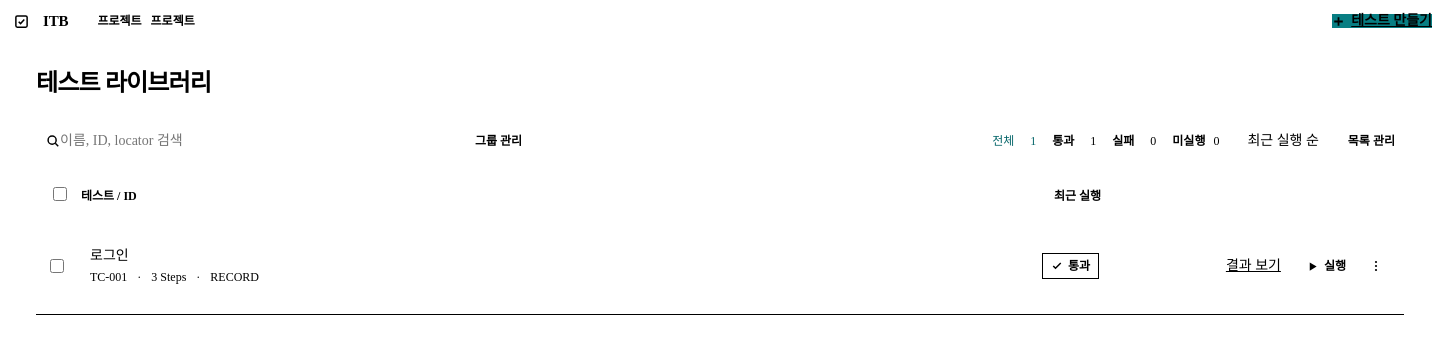
Test: TestList — 이름 변경·삭제 (FR-007) › 삭제는 확인을 거친다. 확인 전에는 요청하지 않는다
Check: the text "로그인" is shown, box [90,248,129,263]
Click the button named "로그인 추가 동작" at (1376, 266), box [1362,252,1390,280]
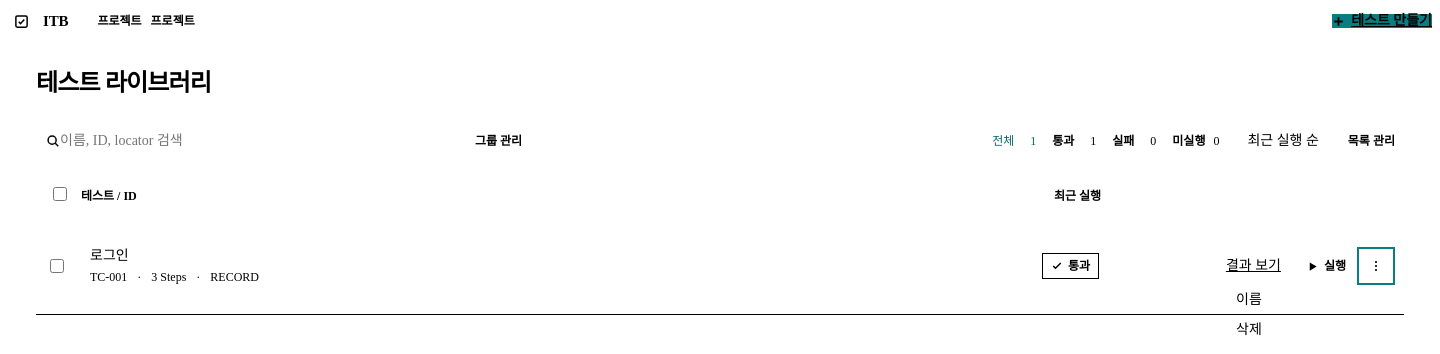
Check: the menu is shown, box [1236,292,1262,337]
Click the menu item "삭제" at (1249, 330), box [1236,322,1262,337]
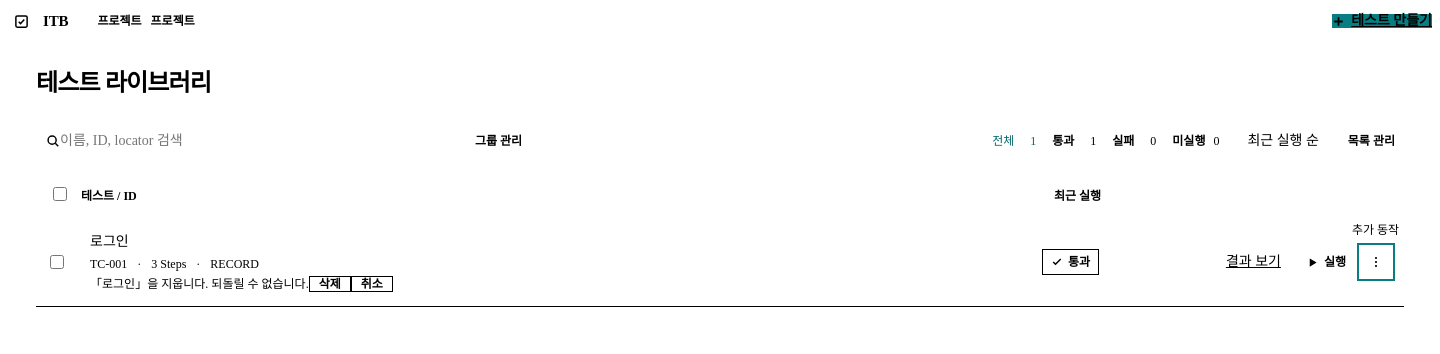
Check: the text "「로그인」을 지웁니다. 되돌릴 수 없습니다." is shown, box [90,278,309,290]
